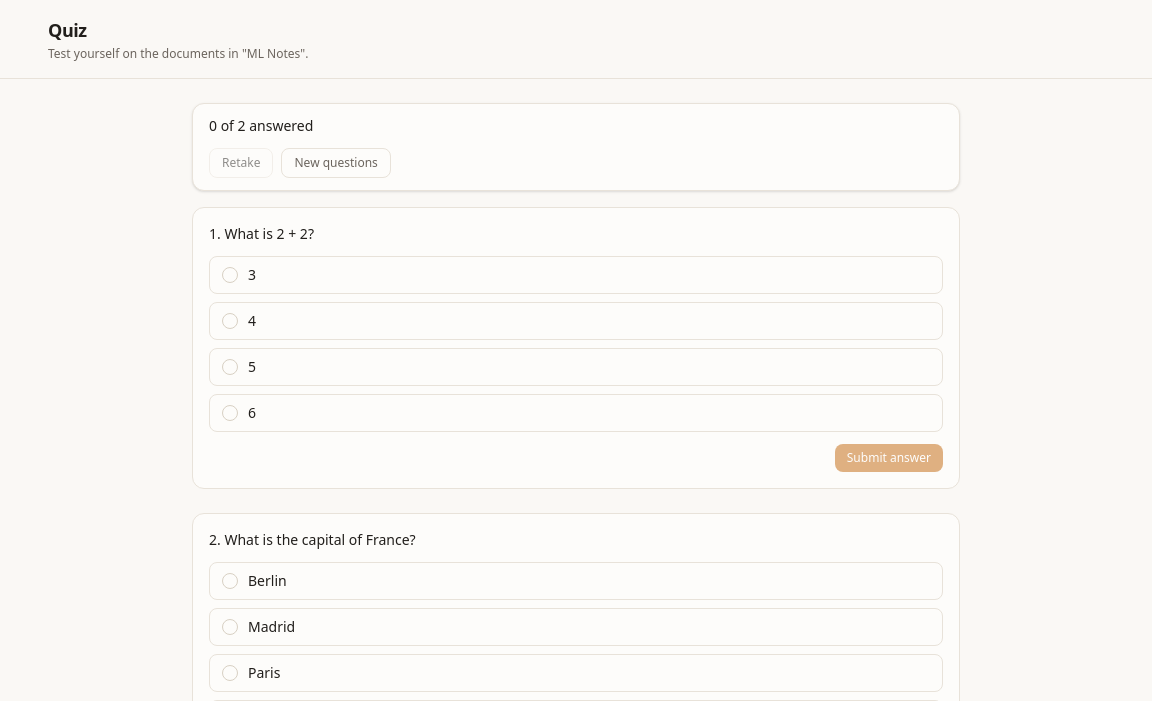
Test case: QuizView › shows every question at once, ungraded until each is individually submitted
The width and height of the screenshot is (1152, 701).
Expected: the text "1. What is 2 + 2?" is shown, [209,224,314,243]
Expected: the text "2. What is the capital of France?" is shown, [209,530,416,549]
Selecting an option does not grade it by itself.
Click the radio button labelled "4" at {"x": 230, "y": 321}, box [209,302,943,340]
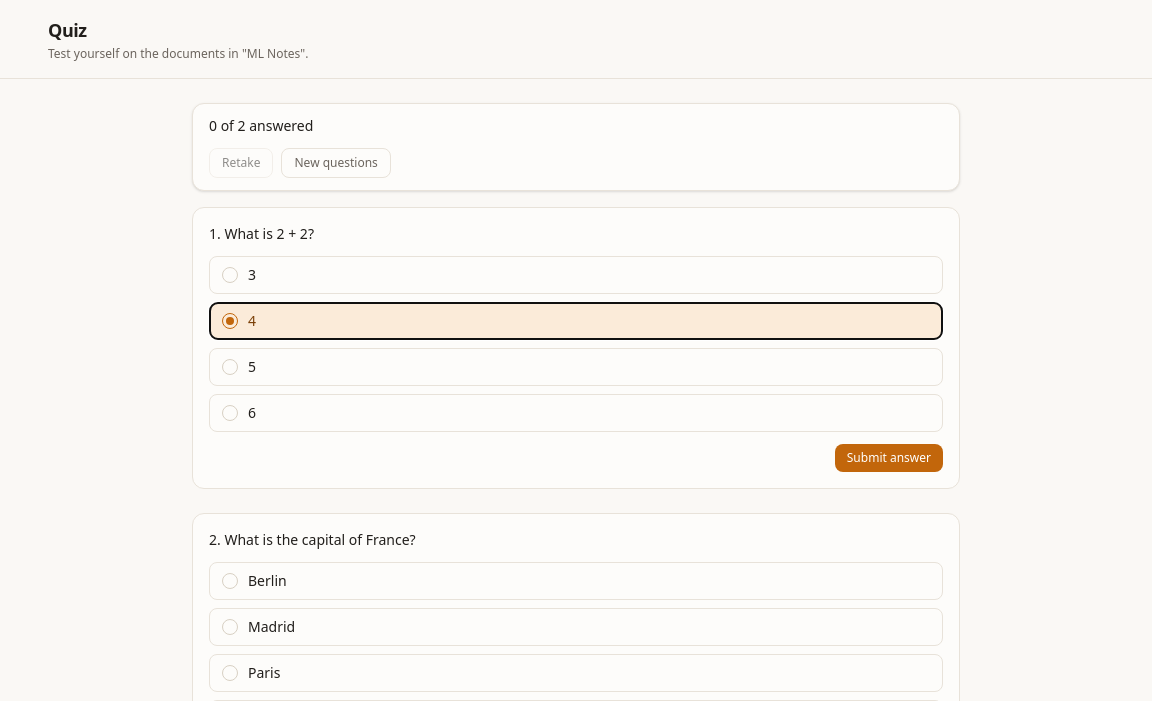
Expected: the text "0 of 2 answered" is shown, [209,116,313,136]
Expected: the button "Submit answer" is enabled, [835,444,943,472]
